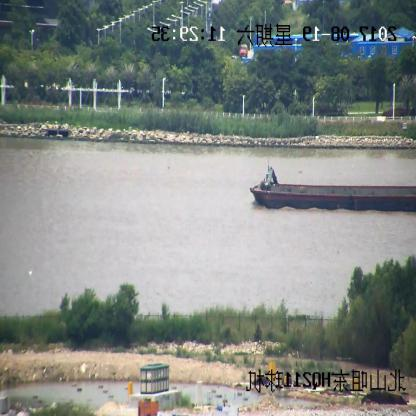Bulk Carrier: (250, 165, 415, 214)
